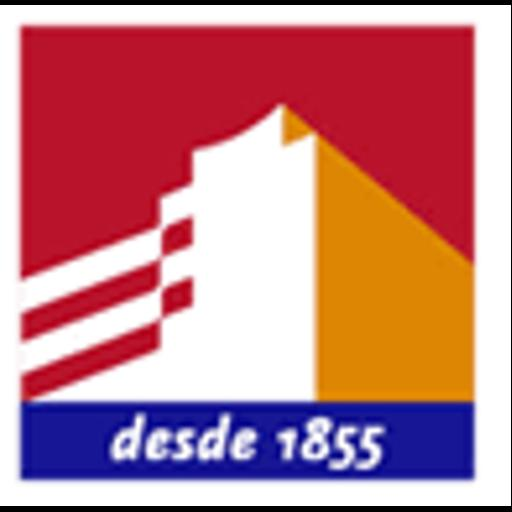Banco del Estado de Chile: (0, 5, 511, 506)
